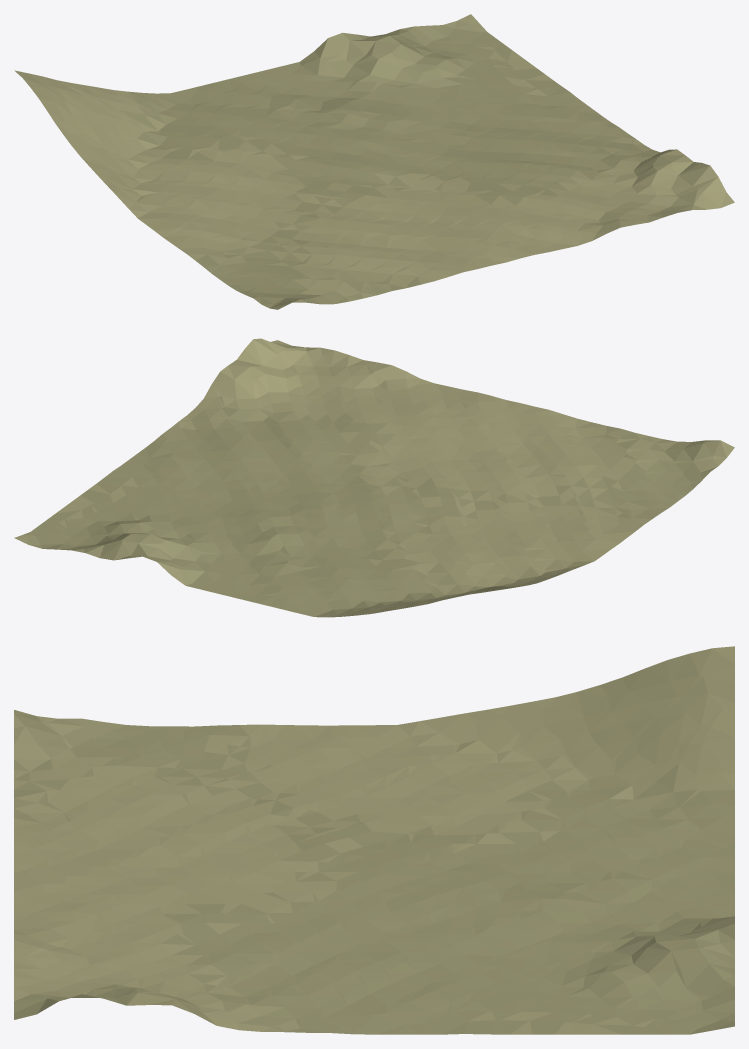
Rendered from Ground_5_2.glb.
3 renders of one model, top to bottom at view 1: azimuth 30°, elevation 25°; view 2: azimuth 150°, elevation 25°; view 3: azimuth 270°, elevation 25°, orthographic. The views are drawn at different scales.
Parts seen in each view (by area): view 1: Ground_5_2; view 2: Ground_5_2; view 3: Ground_5_2.
Boxes of the visible parts, left/top/right/bottom form: Ground_5_2: left=14, top=14, right=734, bottom=309; Ground_5_2: left=14, top=338, right=734, bottom=617; Ground_5_2: left=14, top=646, right=734, bottom=1034.
Bounding box in the file's own units: 768 × 98.33 × 768.
